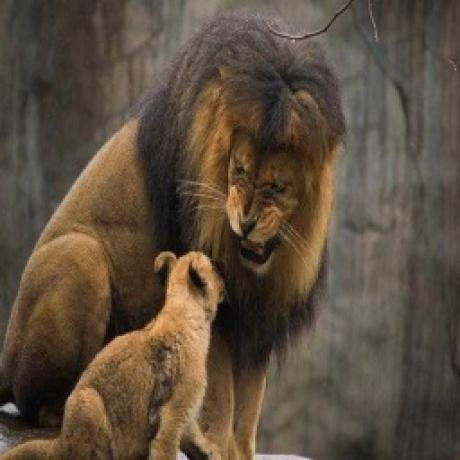Lion: (0, 13, 347, 452), (31, 245, 222, 460)
